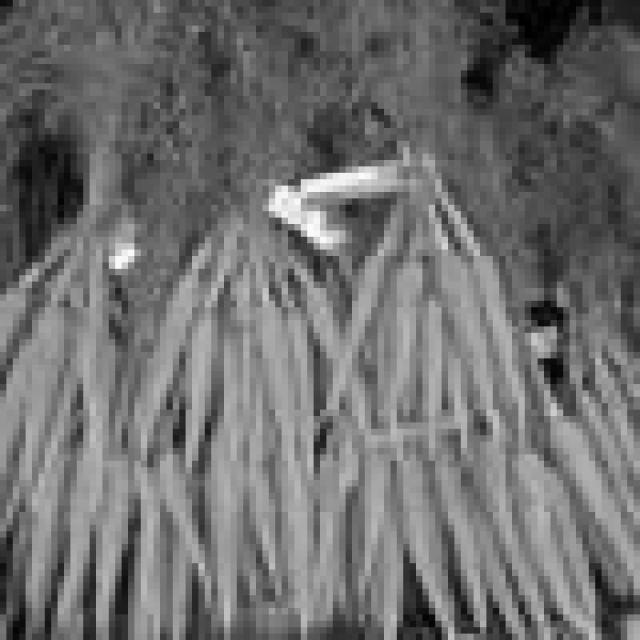Fresh_Carrot: (543, 406, 640, 608), (424, 222, 526, 400), (240, 242, 316, 472), (166, 297, 224, 457), (391, 267, 426, 416), (346, 256, 368, 392)
